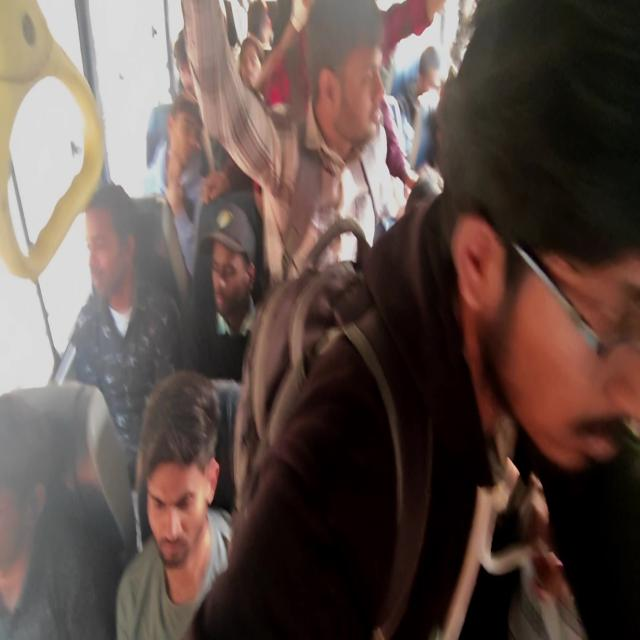person: (465, 28, 640, 470), (139, 398, 239, 597), (304, 5, 391, 162), (1, 347, 59, 550), (197, 197, 257, 305), (82, 186, 136, 276), (166, 115, 207, 177), (173, 38, 210, 96), (247, 1, 279, 45), (239, 51, 270, 94), (416, 45, 441, 86)
